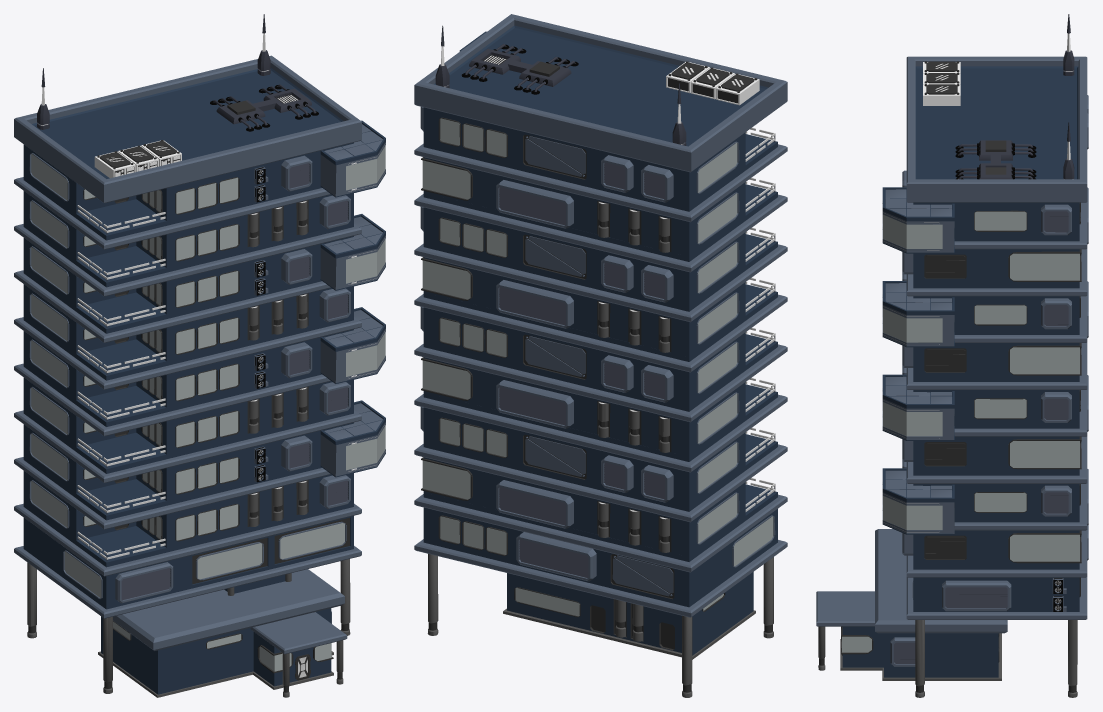
Rendered from Apartmentbuilding1.fbx.
The picture shows the model from 3 angles, left to right: view 1: azimuth 30°, elevation 25°; view 2: azimuth 150°, elevation 25°; view 3: azimuth 270°, elevation 25°; orthographic projection. The views are drawn at different scales.
Parts seen in each view (by area): view 1: Plane.001; view 2: Plane.001; view 3: Plane.001.
Boxes of the visible parts, left/top/right/bottom form: Plane.001: left=14, top=14, right=385, bottom=697; Plane.001: left=414, top=14, right=787, bottom=697; Plane.001: left=816, top=14, right=1088, bottom=697.
Size of the model in its own units: 9.77 by 18.78 by 8.13.
